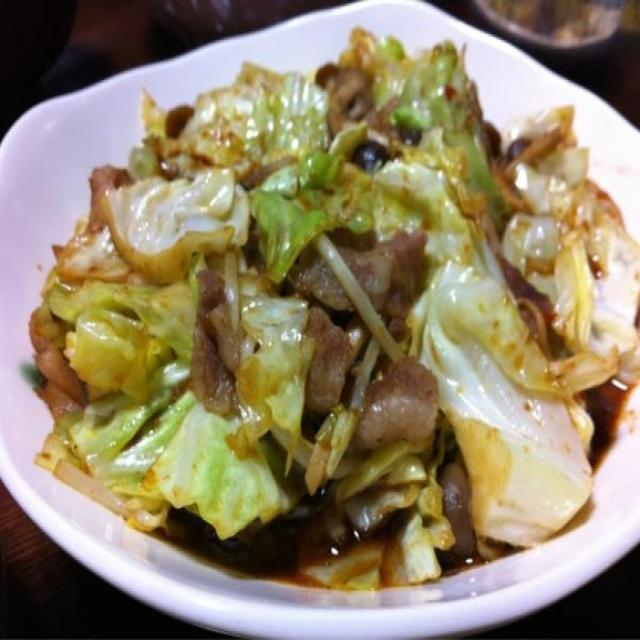炸货点心: (18, 0, 637, 640)
